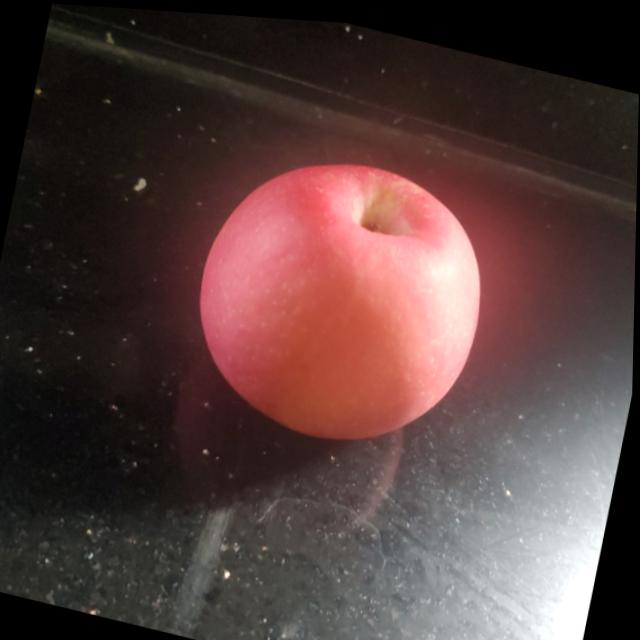apple: (183, 129, 508, 469)
